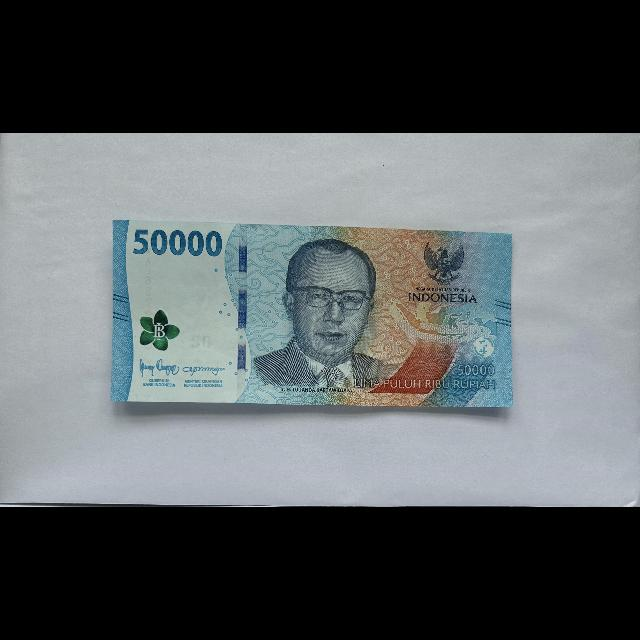Asli-50k: (110, 219, 515, 409)
Tinta-Asli-50k: (139, 309, 181, 352)
